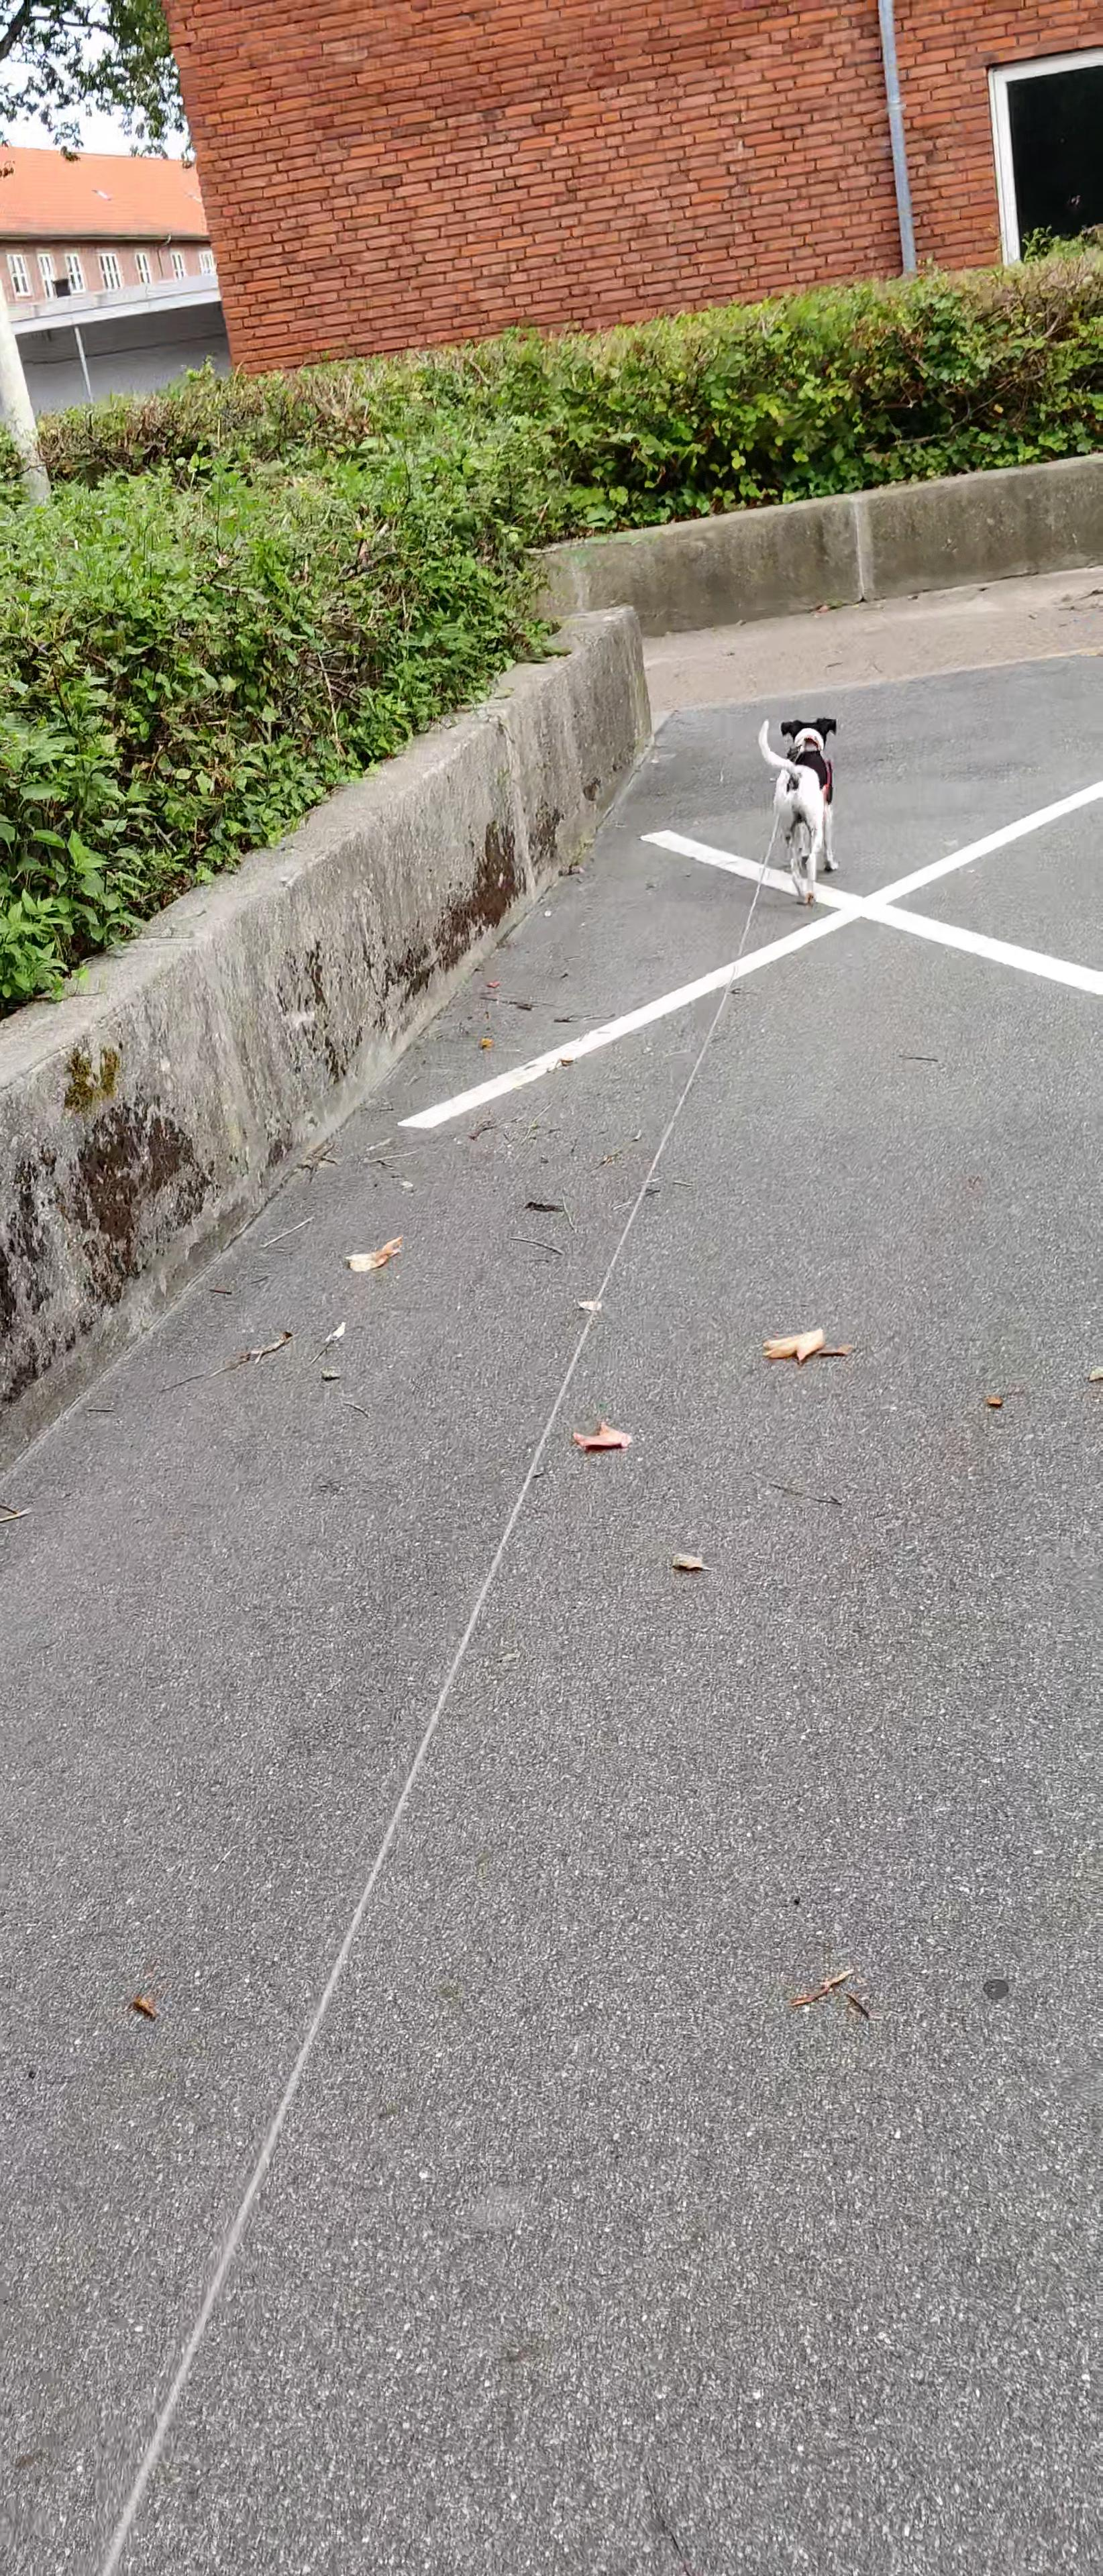Dog: (750, 703, 847, 907)
